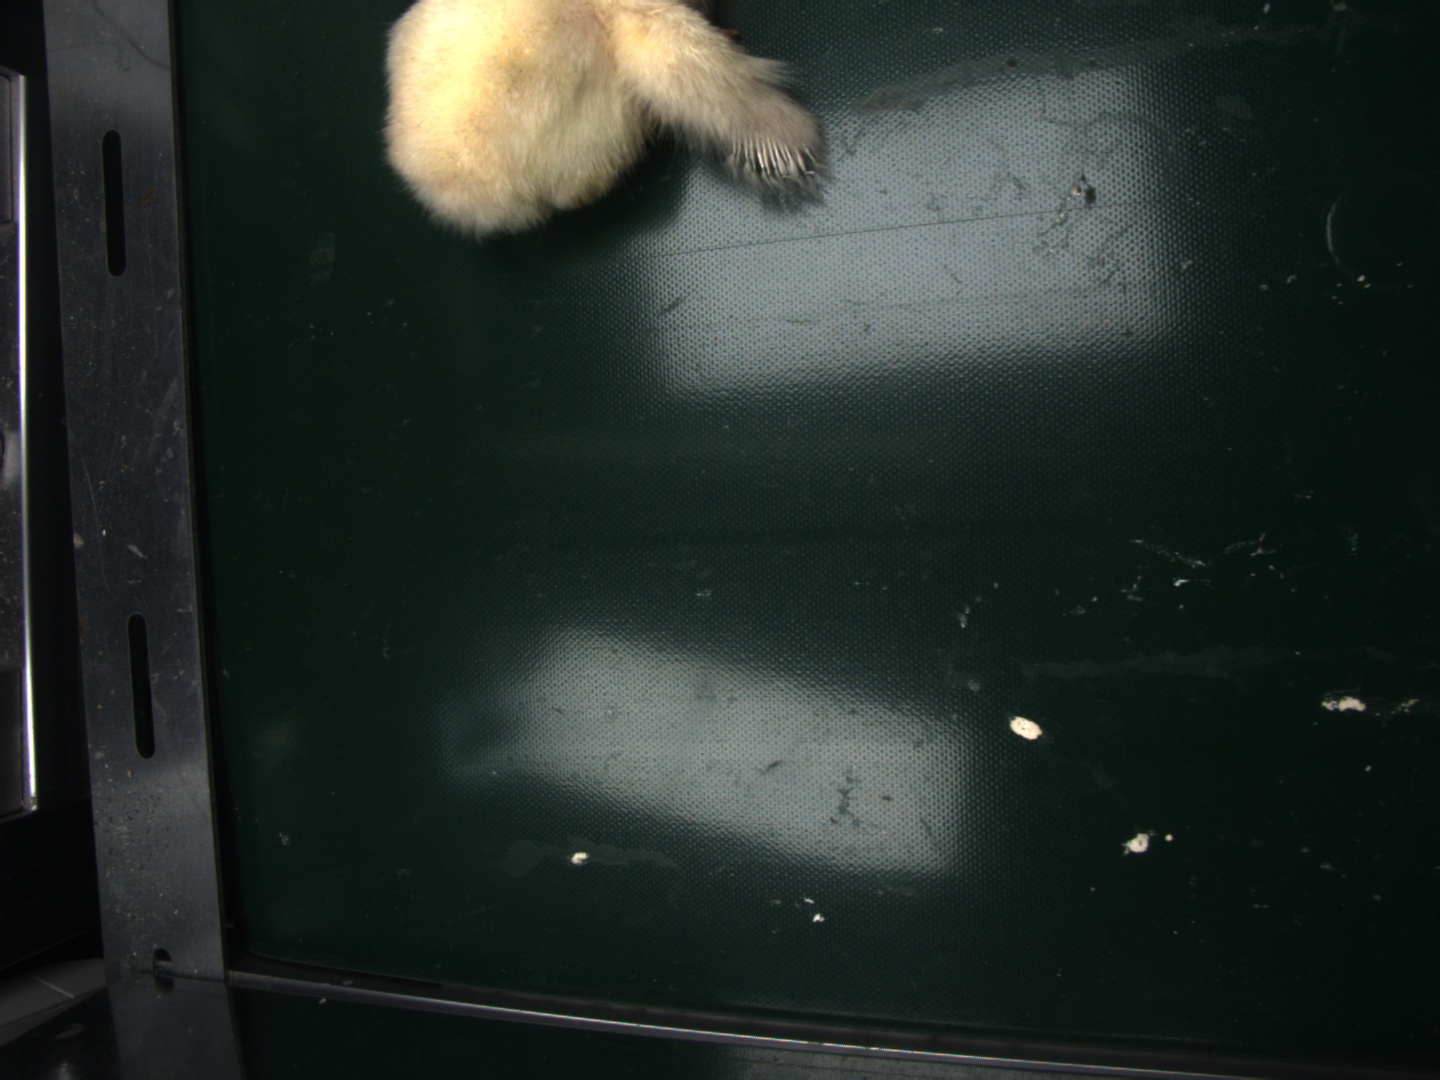male: (732, 133, 812, 180)
